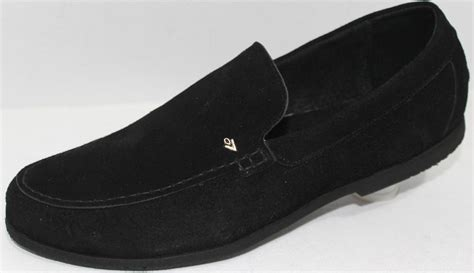gamuza: (5, 1, 469, 259)
